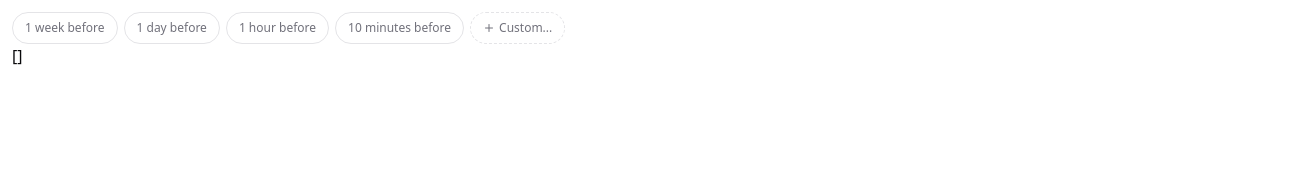
TimerReminderChips › rejects custom offsets the scheduler would not accept
Click the button "Custom...".
click(518, 28)  # box x1=470 y1=12 x2=565 y2=44
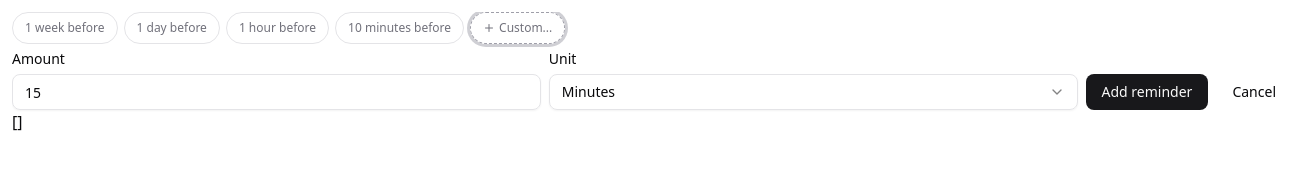
Replace the text in the number field labelled "Amount" with "50000" at (276, 92), box x1=12 y1=74 x2=541 y2=110
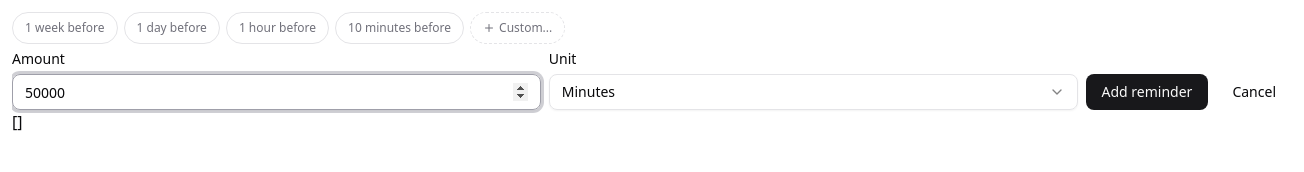
Click the button "Add reminder".
click(1147, 92)  # box x1=1086 y1=74 x2=1208 y2=110
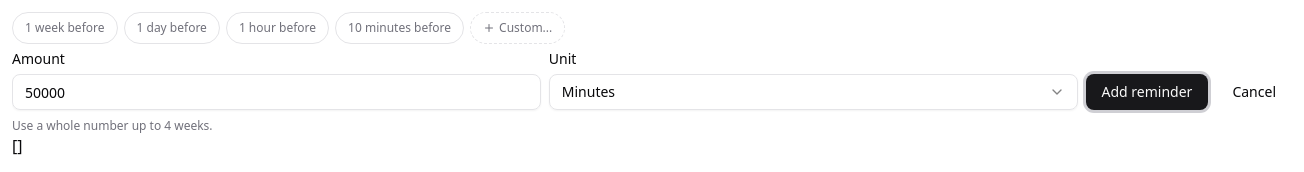
Now the text "Use a whole number up to 4 weeks." is shown, box x1=12 y1=117 x2=213 y2=134
